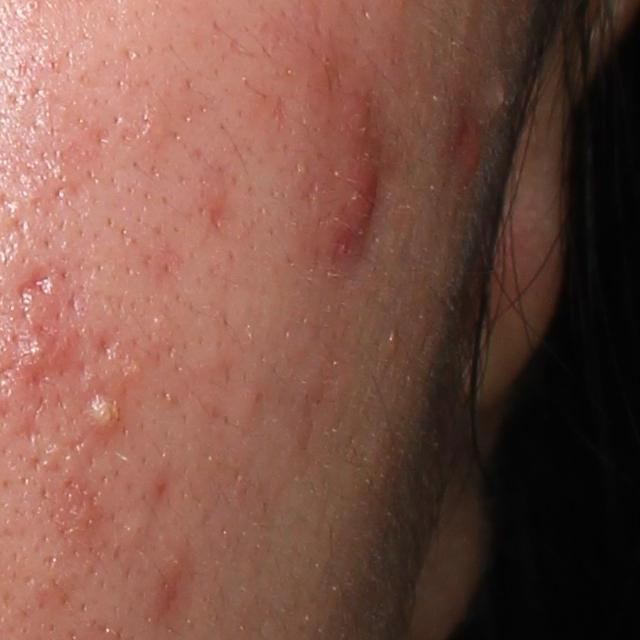atrophic_scar: (13, 261, 57, 306), (96, 332, 118, 361)
comedo: (492, 85, 509, 109)
papule: (7, 317, 69, 390), (339, 171, 377, 233), (342, 93, 376, 137), (456, 134, 484, 177)
pustule: (88, 392, 123, 433)
